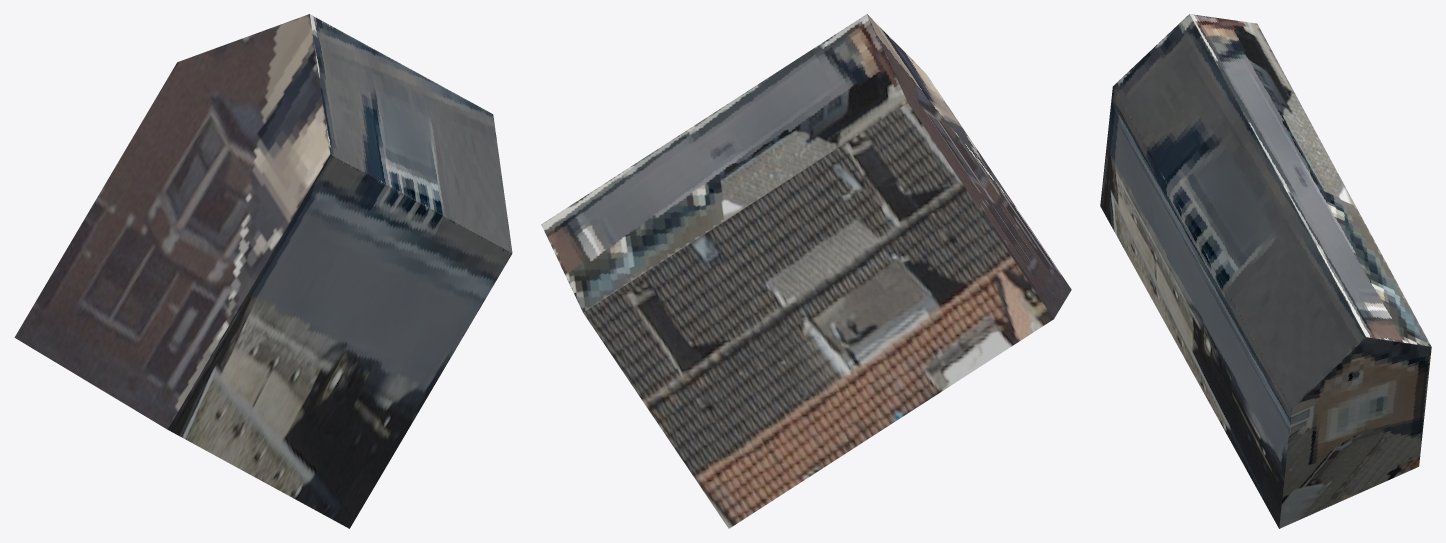
3 renders of one model, left to right at view 1: azimuth 30°, elevation 25°; view 2: azimuth 150°, elevation 25°; view 3: azimuth 270°, elevation 25°, orthographic. The views are drawn at different scales.
Parts seen in each view (by area): view 1: BAG_0599100000656926 (×2); view 2: BAG_0599100000656926 (×2); view 3: BAG_0599100000656926 (×3).
Part boxes in pixels (x1=…): BAG_0599100000656926 (×2): x1=14, y1=14, x2=512, y2=528; BAG_0599100000656926 (×2): x1=541, y1=14, x2=1071, y2=528; BAG_0599100000656926 (×3): x1=1100, y1=14, x2=1431, y2=528.
Size of the model in its own units: 15.02 by 15.01 by 9.46.
Materials: 3 (3 with a texture image).
